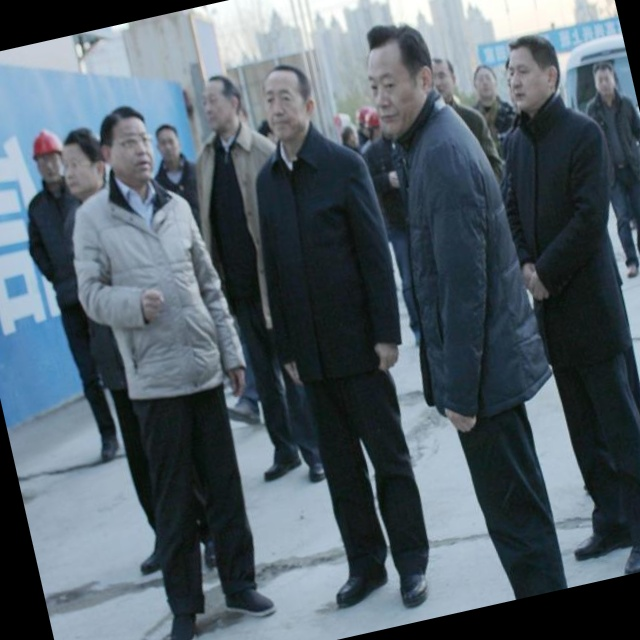Sin_Casco_Mascarrilla: (358, 14, 445, 139), (497, 30, 566, 116)
Sin_Chaleco: (238, 125, 406, 362), (76, 167, 232, 406)
